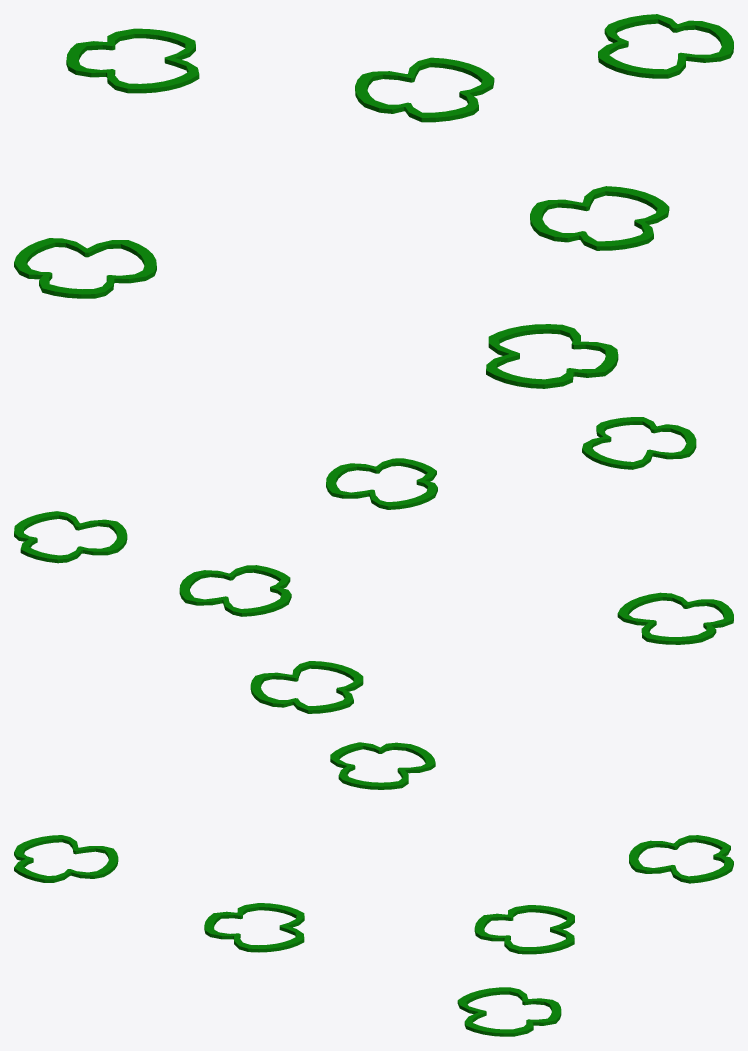
Rendered from bellpeper layer.fbx.
3 renders of one model, top to bottom at view 1: azimuth 30°, elevation 25°; view 2: azimuth 150°, elevation 25°; view 3: azimuth 270°, elevation 25°, orthographic. The views are drawn at different scales.
Parts seen in each view (by area): view 1: bellpepper layer; view 2: bellpepper layer; view 3: bellpepper layer.
Part boxes in pixels (bbox=[...]): bellpepper layer: bbox=[14, 14, 733, 388]; bellpepper layer: bbox=[14, 417, 733, 713]; bellpepper layer: bbox=[14, 742, 733, 1036].
Bounding box in the file's own units: 1857 × 13.7 × 1948.
